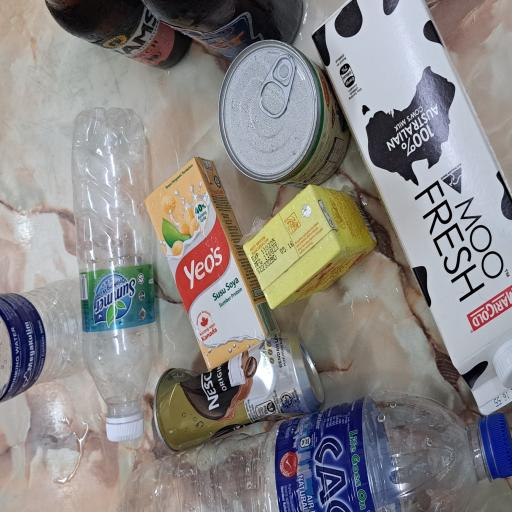can: (40, 198, 137, 434), (245, 296, 355, 467)
drink carton: (70, 411, 384, 512), (109, 190, 266, 364), (158, 321, 246, 500)
glass bottle: (331, 60, 384, 248), (343, 178, 384, 414)
plastic bottle: (0, 164, 84, 512), (70, 100, 308, 208), (79, 0, 184, 136)
plastic bottle cap: (52, 141, 76, 192)
pop tab: (296, 343, 340, 398)
